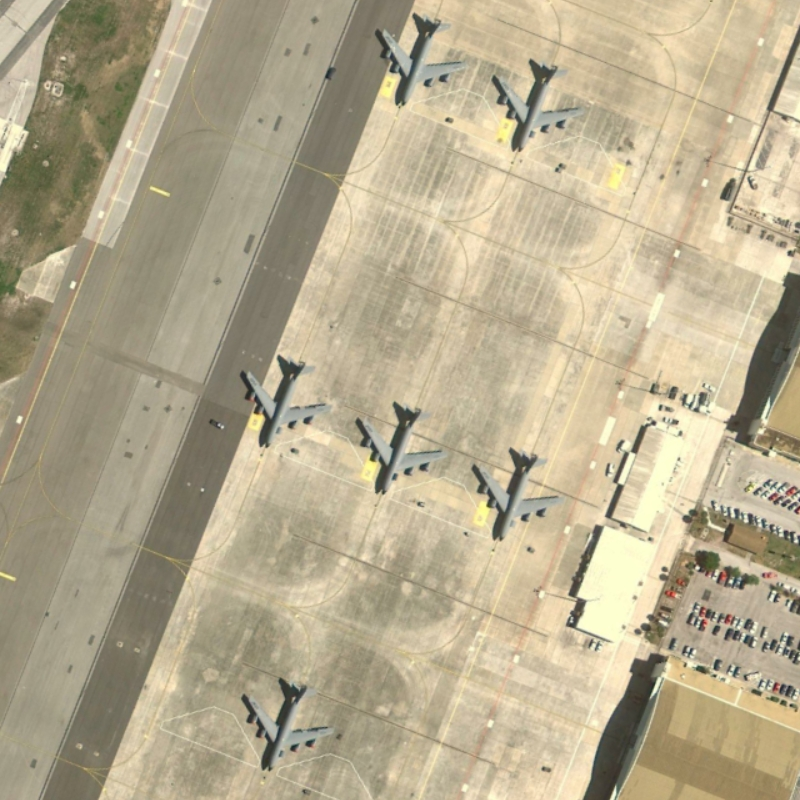A14: (238, 677, 337, 775), (488, 57, 584, 155), (376, 10, 469, 111), (469, 445, 562, 545), (353, 399, 444, 498), (238, 357, 333, 451)
